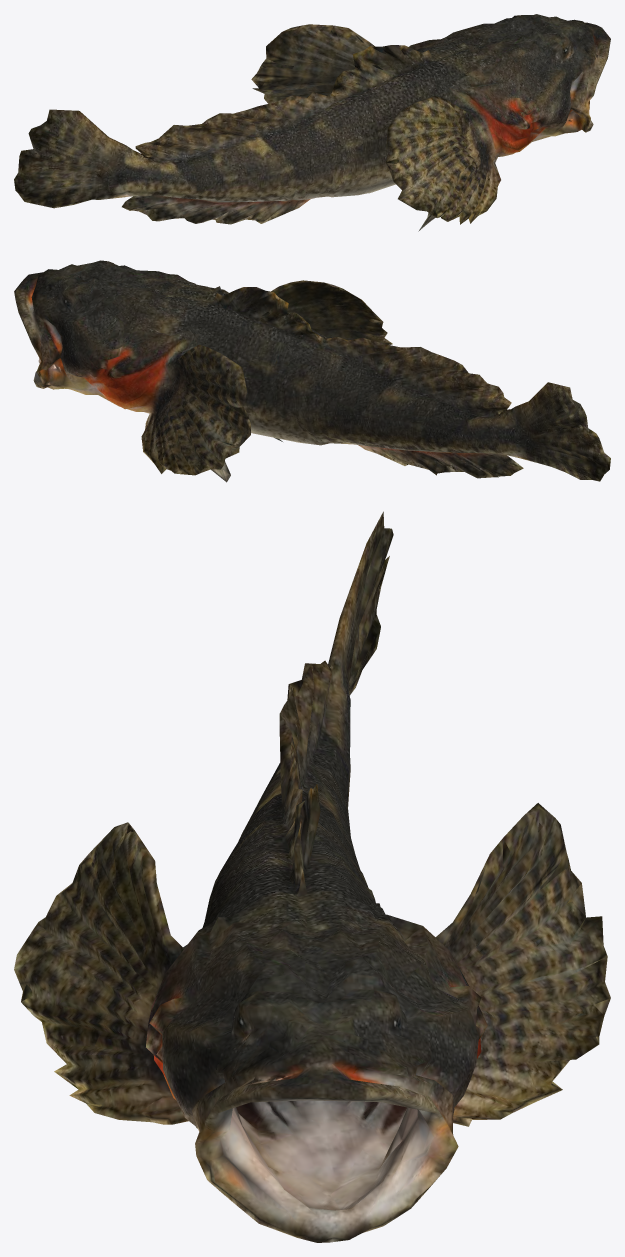
The model's file is scan_sculpin.glb.
3 views of the same model, one above another, from view 1: azimuth 30°, elevation 25°; view 2: azimuth 150°, elevation 25°; view 3: azimuth 270°, elevation 25° (orthographic). The views are drawn at different scales.
Parts seen in each view (by area): view 1: scan_sculpin; view 2: scan_sculpin; view 3: scan_sculpin.
Part boxes in pixels (x1,y1,x2,y2): scan_sculpin: (14, 14, 610, 231); scan_sculpin: (14, 260, 610, 482); scan_sculpin: (14, 511, 610, 1242).
Size of the model in its own units: 0.2995 by 0.0844 by 0.1395.
1 material, 1 textured.
